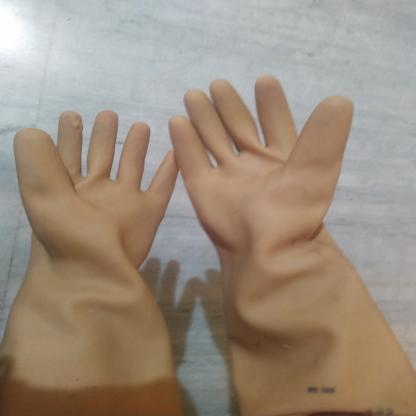gloved_hand: (164, 71, 415, 416), (1, 108, 180, 416)
